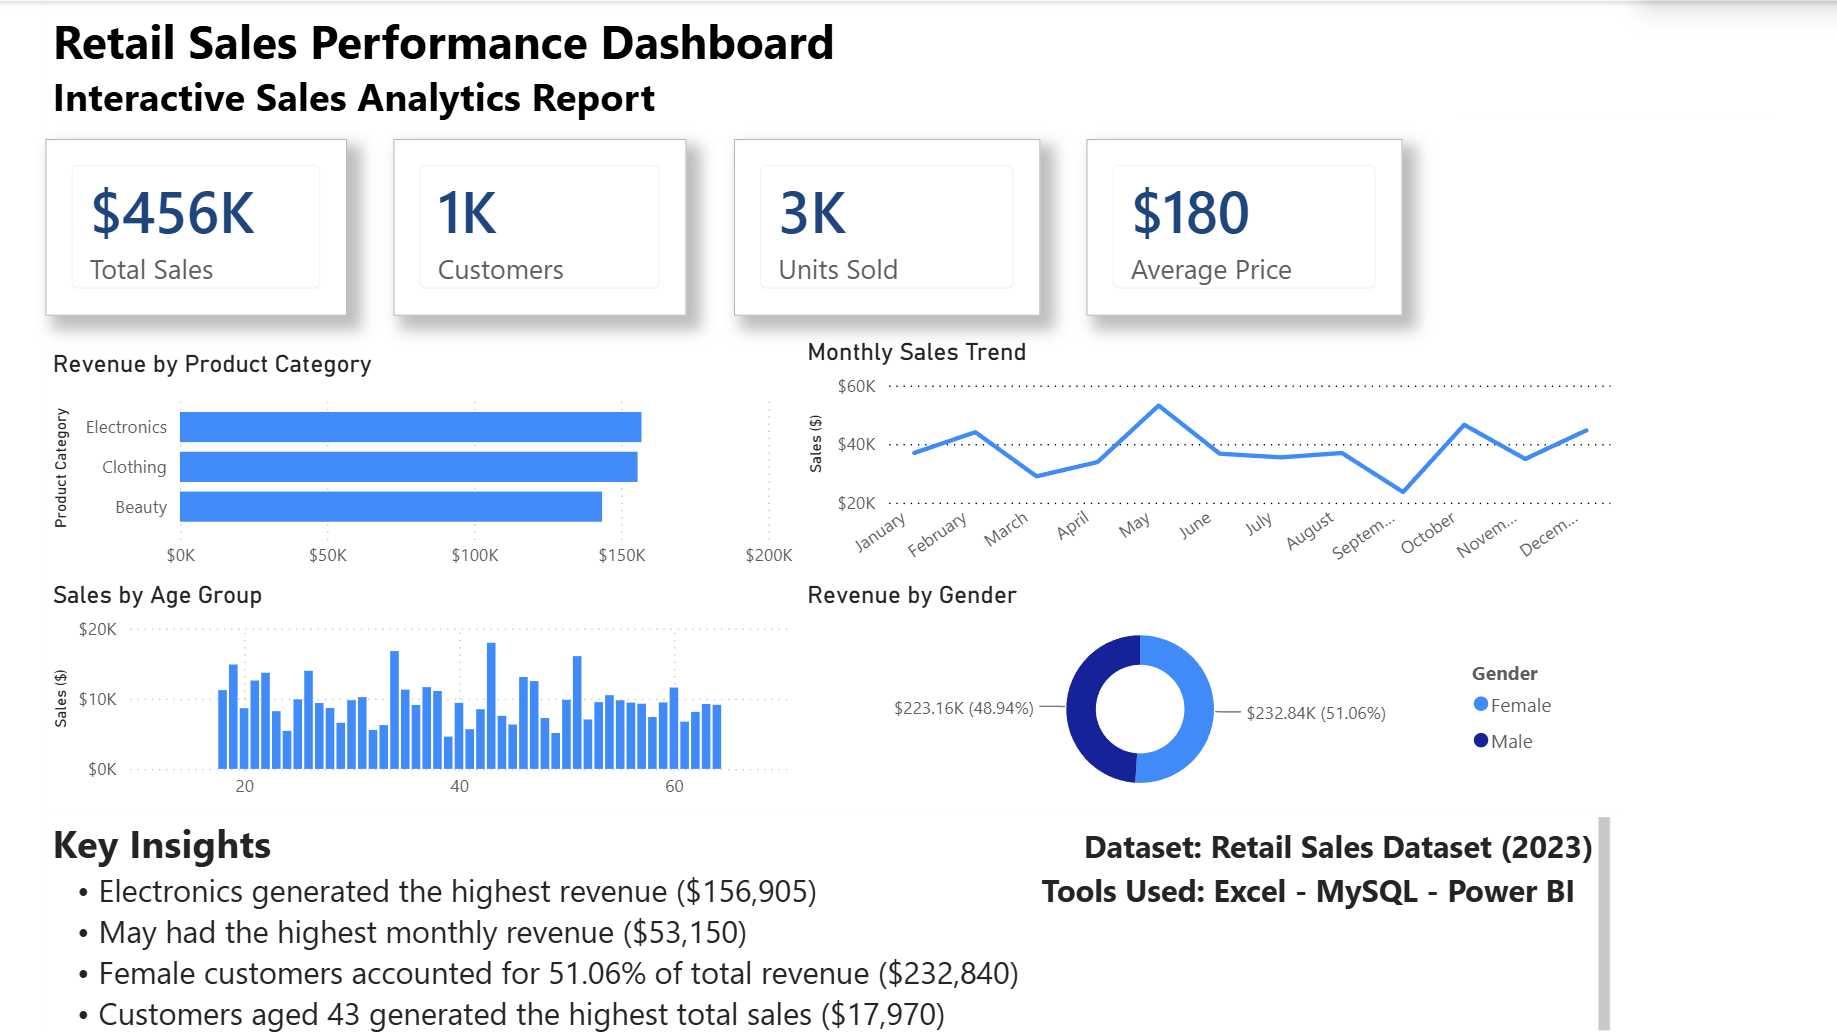

This screenshot's page, from the dashboard's own definition file:
{"tool":"powerbi","page":{"name":"Page 1","canvas":[1280,720],"ordinal":0},"visuals":[{"type":"textbox","box":[34.7,0,829.2,96.2],"z":0},{"type":"lineChart","title":"Monthly Sales Trend","fields":{"Category":["retail_sales_dataset.Date.Variation.Date Hierarchy.Month"],"Y":["Sum(retail_sales_dataset.Total Amount)"]},"box":[558,233.3,567.5,168.7],"z":1000},{"type":"cardVisual","fields":{"Data":["Sum(retail_sales_dataset.Total Amount)"]},"box":[34.7,96.2,209.7,123],"z":2000},{"type":"cardVisual","fields":{"Data":["Count(retail_sales_dataset.Customer ID)"]},"box":[276.4,96.2,203.3,123],"z":3000},{"type":"cardVisual","fields":{"Data":["Sum(retail_sales_dataset.Quantity)"]},"box":[511.8,96.2,212.8,123],"z":4000},{"type":"cardVisual","fields":{"Data":["Avg(retail_sales_dataset.Price per Unit)"]},"box":[756.7,96.2,219.1,123],"z":5000},{"type":"clusteredBarChart","title":"Revenue by Product Category","fields":{"Y":["Sum(retail_sales_dataset.Total Amount)"],"Category":["retail_sales_dataset.Product Category"]},"box":[34.7,241.2,523.3,160.8],"z":6000},{"type":"donutChart","title":"Revenue by Gender","fields":{"Category":["retail_sales_dataset.Gender"],"Y":["Sum(retail_sales_dataset.Total Amount)"]},"box":[558,402,537.5,159.2],"z":7000},{"type":"clusteredColumnChart","title":"Sales by Age Group","fields":{"Y":["Sum(retail_sales_dataset.Total Amount)"],"Category":["retail_sales_dataset.Age"]},"box":[34.7,402,523.3,160.8],"z":8000},{"type":"textbox","box":[1016.5,82.5,219,150],"z":9000},{"type":"textbox","box":[34.7,561.2,1090.8,159.2],"z":10000}]}

Visuals, with their boxes in screenshot pixels (x1, y1, x2, y2), scaled from the page's 1280x720 canvas onto the 1837x1033 screenshot:
textbox: <box>50,0,1240,138</box>
"Monthly Sales Trend" lineChart: <box>801,335,1615,577</box>
cardVisual - Sum(retail_sales_dataset.Total Amount): <box>50,138,351,314</box>
cardVisual - Count(retail_sales_dataset.Customer ID): <box>397,138,688,314</box>
cardVisual - Sum(retail_sales_dataset.Quantity): <box>735,138,1040,314</box>
cardVisual - Avg(retail_sales_dataset.Price per Unit): <box>1086,138,1400,314</box>
"Revenue by Product Category" clusteredBarChart: <box>50,346,801,577</box>
"Revenue by Gender" donutChart: <box>801,577,1572,805</box>
"Sales by Age Group" clusteredColumnChart: <box>50,577,801,807</box>
textbox: <box>1459,118,1773,334</box>
textbox: <box>50,805,1615,1032</box>
